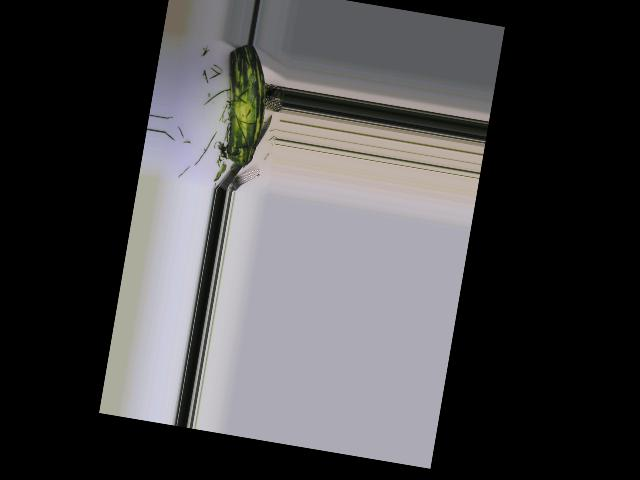cucumber: (211, 42, 274, 167)
